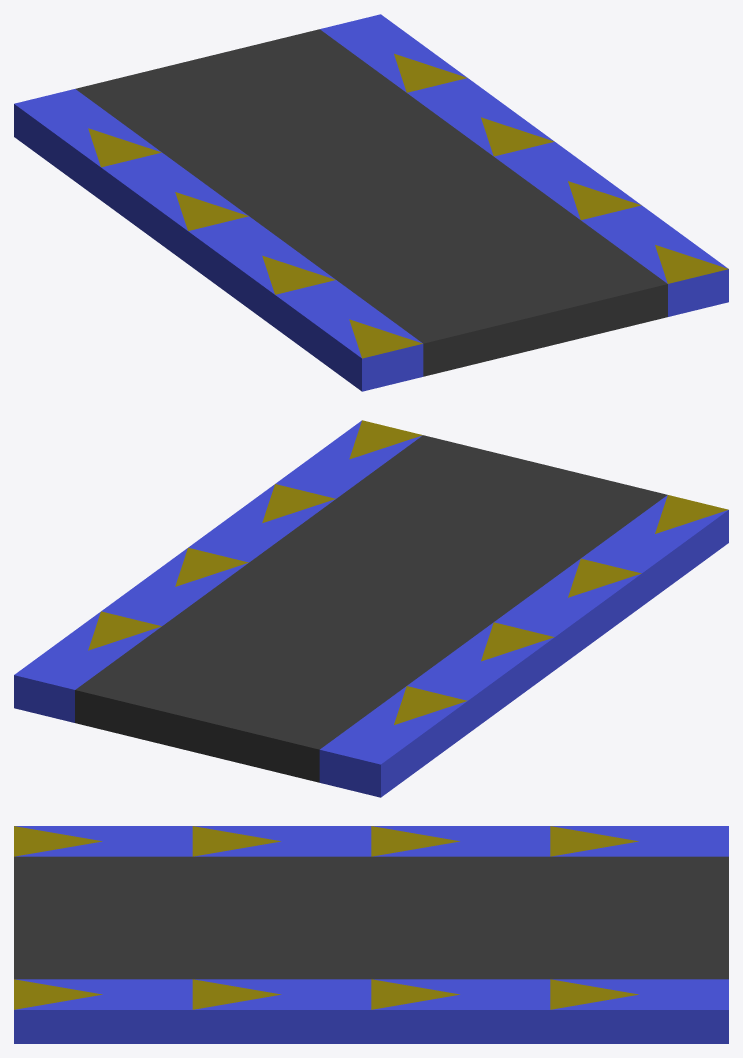
File: Plataforma recta.fbx
3 renders of one model, top to bottom at view 1: azimuth 30°, elevation 25°; view 2: azimuth 150°, elevation 25°; view 3: azimuth 270°, elevation 25°, orthographic. The views are drawn at different scales.
Visible parts, largest first — view 1: Plane.001; view 2: Plane.001; view 3: Plane.001.
Boxes of the visible parts, left/top/right/bottom form: Plane.001: left=14, top=14, right=728, bottom=391; Plane.001: left=14, top=420, right=728, bottom=797; Plane.001: left=14, top=826, right=728, bottom=1043.
Size of the model in its own units: 301 by 25.98 by 495.
